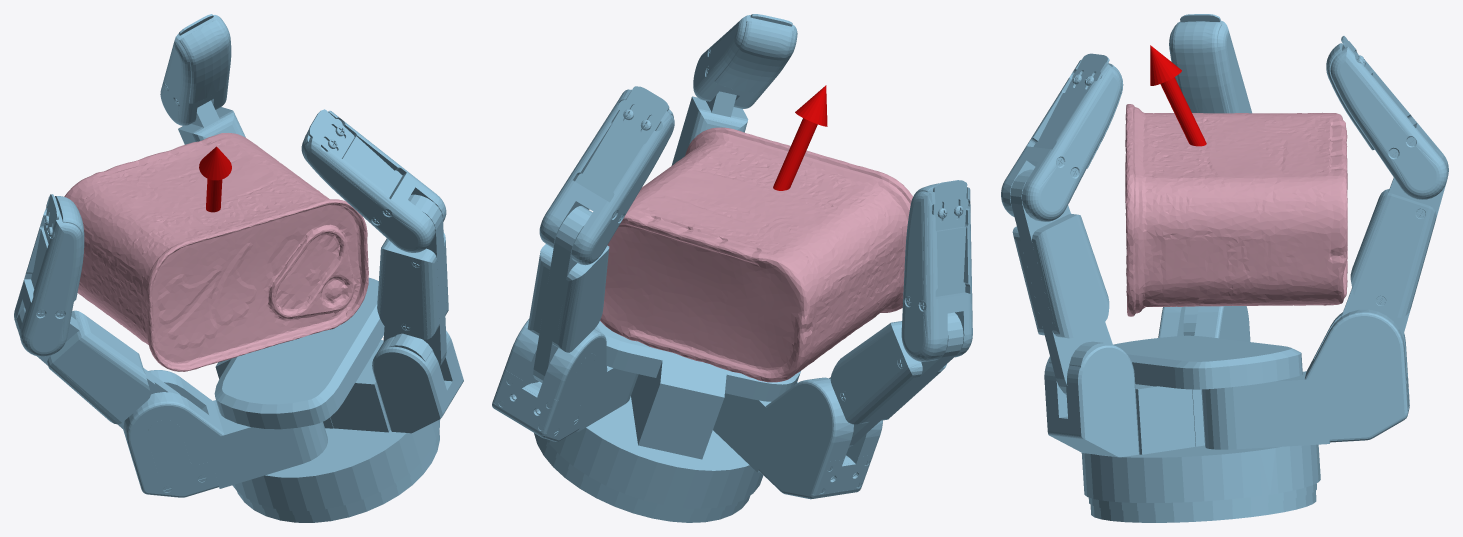
3 renders of one model, left to right at view 1: azimuth 30°, elevation 25°; view 2: azimuth 150°, elevation 25°; view 3: azimuth 270°, elevation 25°, orthographic. The views are drawn at different scales.
Visible parts, largest first — view 1: world, potted_meat_can.stl; view 2: world, potted_meat_can.stl; view 3: world, potted_meat_can.stl.
Part boxes in pixels (x1,y1,x2,y2): world: (14, 14, 463, 522); potted_meat_can.stl: (64, 133, 368, 371); world: (492, 14, 972, 522); potted_meat_can.stl: (600, 127, 912, 382); world: (1001, 14, 1448, 522); potted_meat_can.stl: (1125, 104, 1347, 316).
Bounding box in the file's own units: 0.1834 × 0.1931 × 0.1681.
